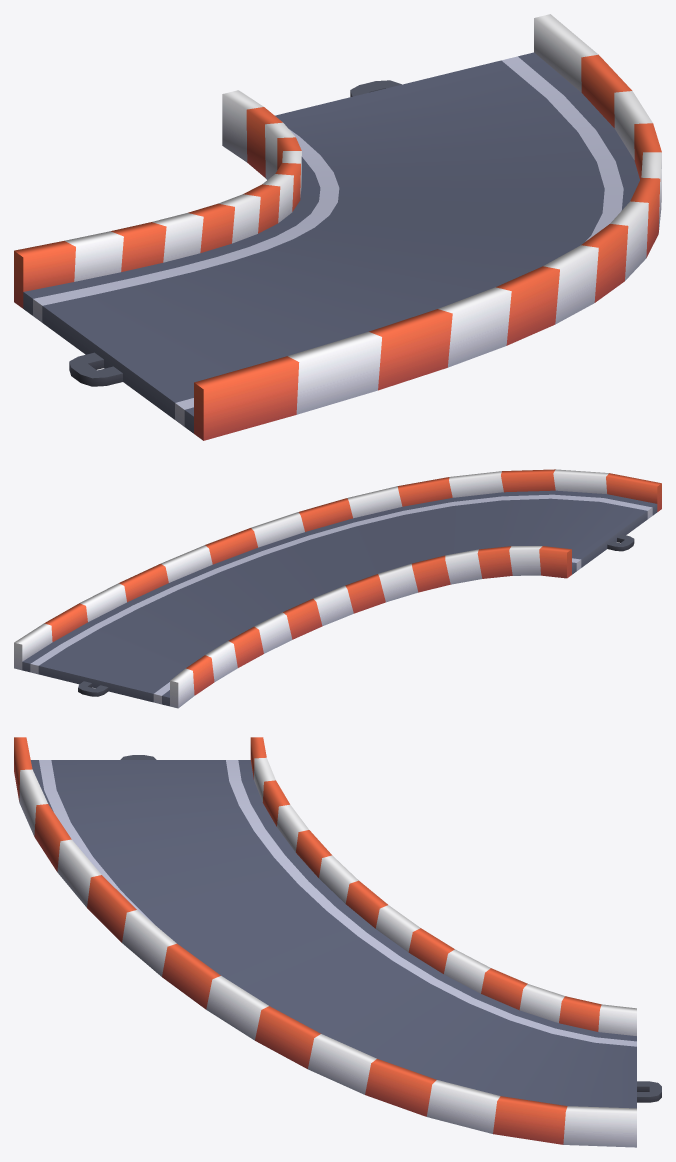
File: kenney-toy-car-track-road-wide-corner-large-ramp.glb
3 views of the same model, one above another, from view 1: azimuth 30°, elevation 25°; view 2: azimuth 150°, elevation 25°; view 3: azimuth 270°, elevation 25° (orthographic). The views are drawn at different scales.
Parts seen in each view (by area): view 1: track-road-wide-corner-large-ramp; view 2: track-road-wide-corner-large-ramp; view 3: track-road-wide-corner-large-ramp.
Boxes of the visible parts, x1=… form: track-road-wide-corner-large-ramp: x1=14, y1=14, x2=661, y2=440; track-road-wide-corner-large-ramp: x1=14, y1=469, x2=661, y2=708; track-road-wide-corner-large-ramp: x1=14, y1=737, x2=661, y2=1147.
Bounding box in the file's own units: 5.2 × 1.3 × 5.2.
Materials: 1 (1 with a texture image).
